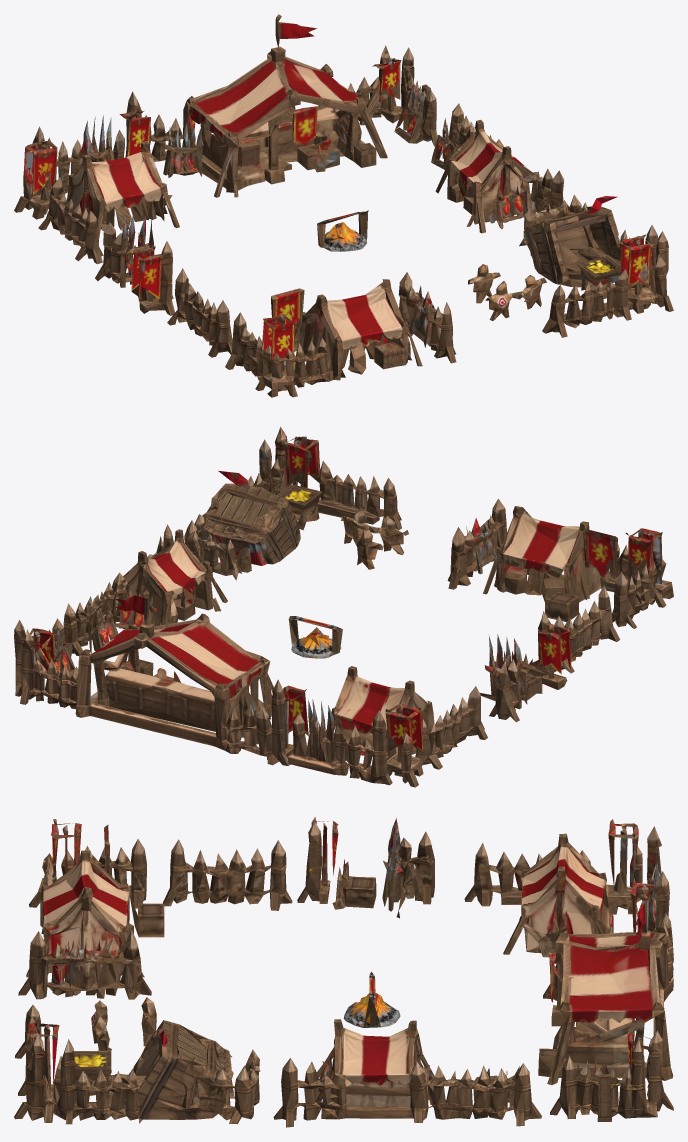
The model's file is military%20camp%20model%20level%201.glb.
3 views of the same model, one above another, from view 1: azimuth 30°, elevation 25°; view 2: azimuth 150°, elevation 25°; view 3: azimuth 270°, elevation 25° (orthographic). The views are drawn at different scales.
Visible parts, largest first — view 1: output_unwrapped; view 2: output_unwrapped; view 3: output_unwrapped.
Boxes of the visible parts, <box> form: output_unwrapped: <box>14,14,673,397</box>; output_unwrapped: <box>14,426,673,787</box>; output_unwrapped: <box>14,817,673,1127</box>.
Bounding box in the file's own units: 1.67 × 0.4983 × 1.92.
1 material, 1 textured.
